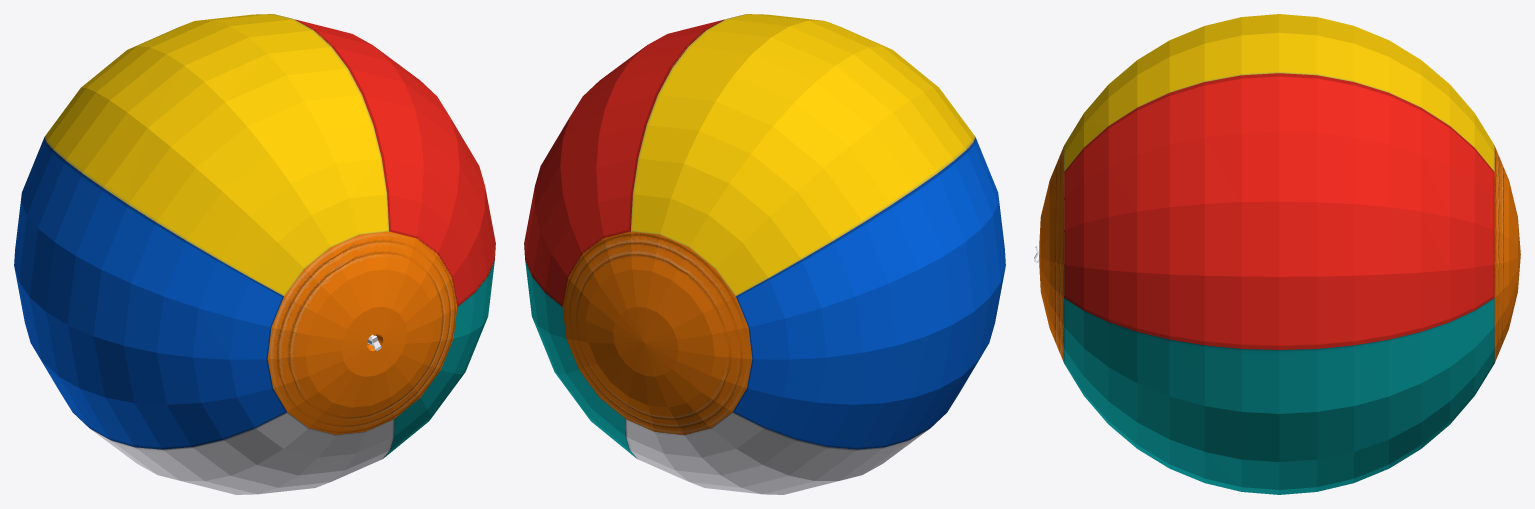
The model's file is ball.glb.
3 renders of one model, left to right at view 1: azimuth 30°, elevation 25°; view 2: azimuth 150°, elevation 25°; view 3: azimuth 270°, elevation 25°, orthographic.
Parts seen in each view (by area): view 1: node_id53; view 2: node_id53; view 3: node_id53.
Part boxes in pixels (x1,y1,x2,y2): node_id53: [14, 14, 495, 494]; node_id53: [524, 14, 1005, 494]; node_id53: [1034, 14, 1520, 494].
Bounding box in the file's own units: 0.4002 × 0.4002 × 0.4036.
Materials: 1 (1 with a texture image).
